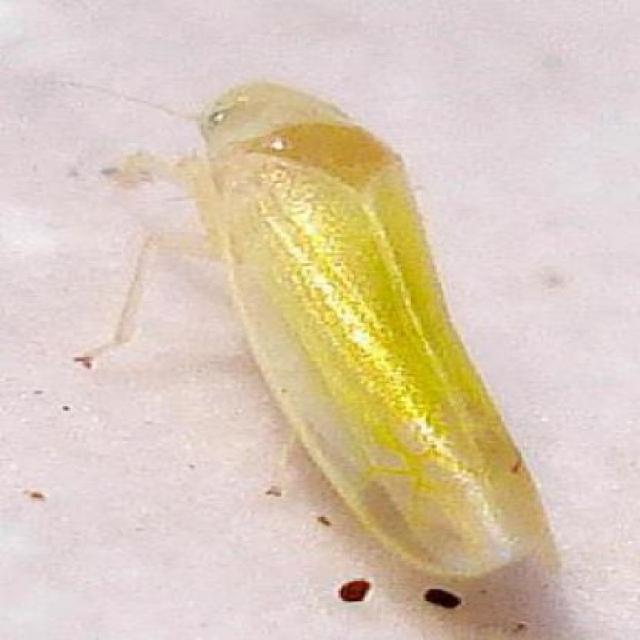green-leafhopper: (182, 76, 561, 576)
